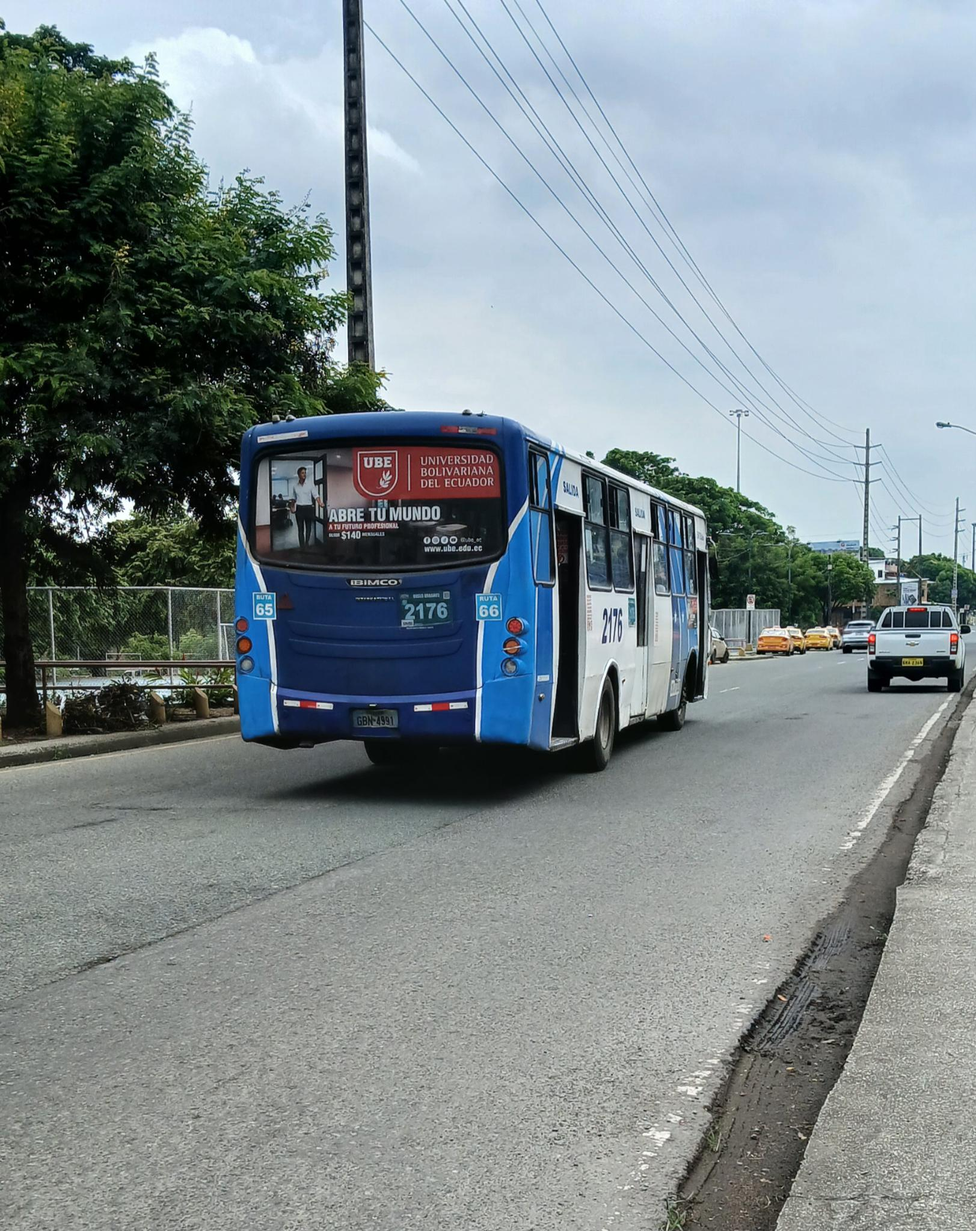license_plate: (350, 708, 399, 730), (900, 657, 924, 666)
